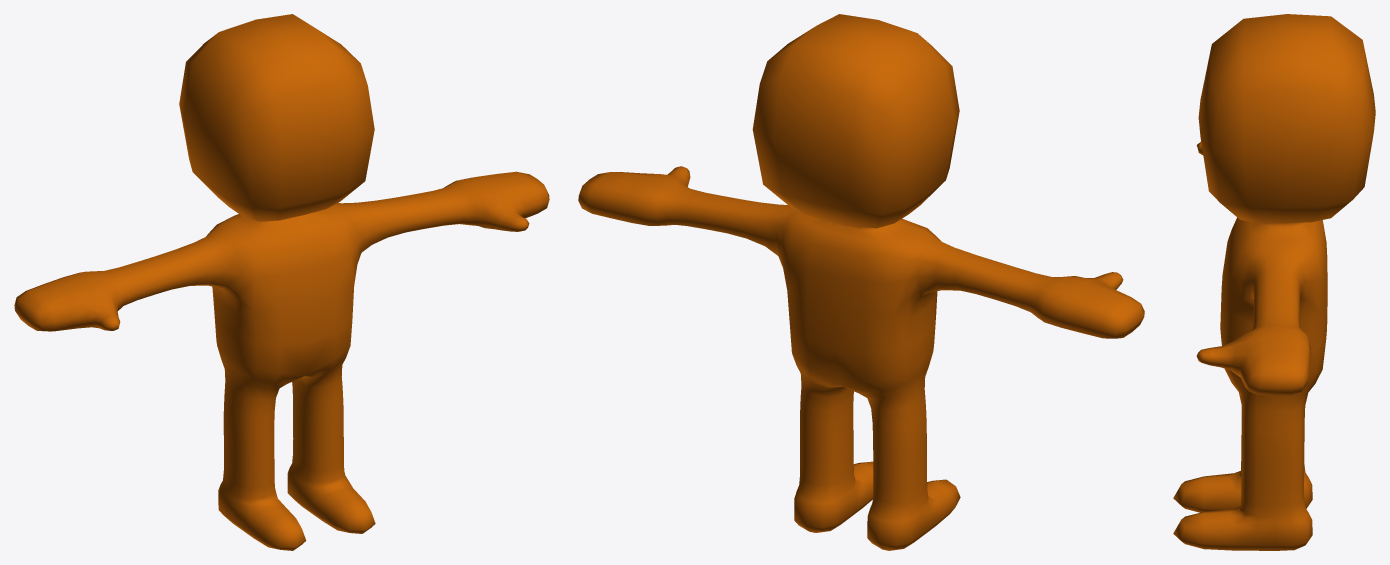
The model's file is LowPolyChar.fbx.
3 views of the same model, side by side, from view 1: azimuth 30°, elevation 25°; view 2: azimuth 150°, elevation 25°; view 3: azimuth 270°, elevation 25° (orthographic). The views are drawn at different scales.
Parts seen in each view (by area): view 1: Cube.002; view 2: Cube.002; view 3: Cube.002.
Boxes of the visible parts, x1,y1,x2,y2 form: Cube.002: (14, 14, 549, 550); Cube.002: (578, 14, 1144, 550); Cube.002: (1173, 14, 1375, 550).
Size of the model in its own units: 49.18 by 43.42 by 15.87.
